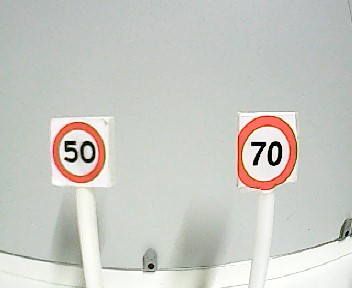50-bord: (53, 122, 107, 183)
70-bord: (238, 117, 298, 188)
